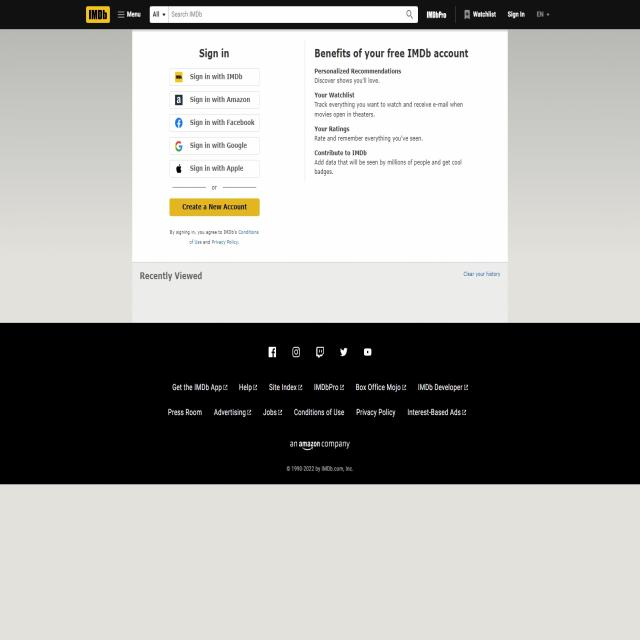menu-bar: (456, 2, 556, 25)
search: (148, 4, 420, 25)
